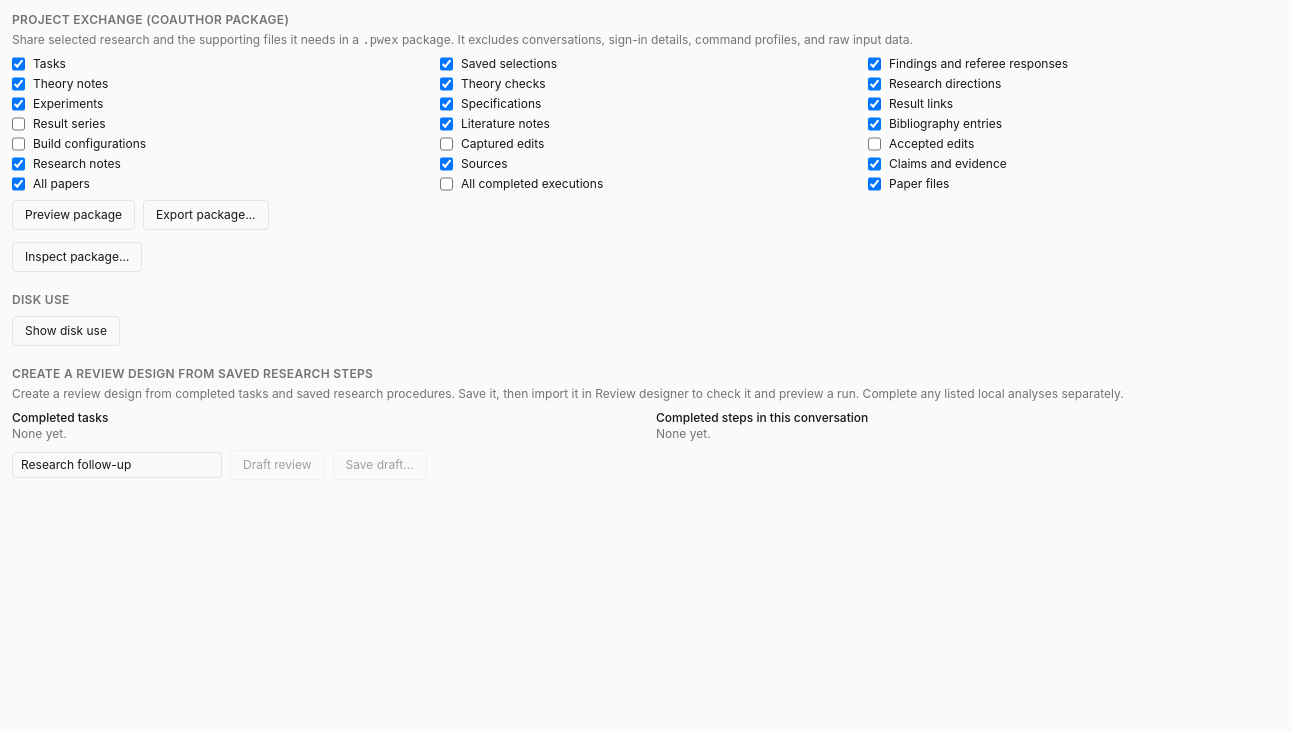
previews a prune before moving anything and only offers disposable categories
Click the button "Show disk use" at (66, 331), box [12, 316, 120, 346]
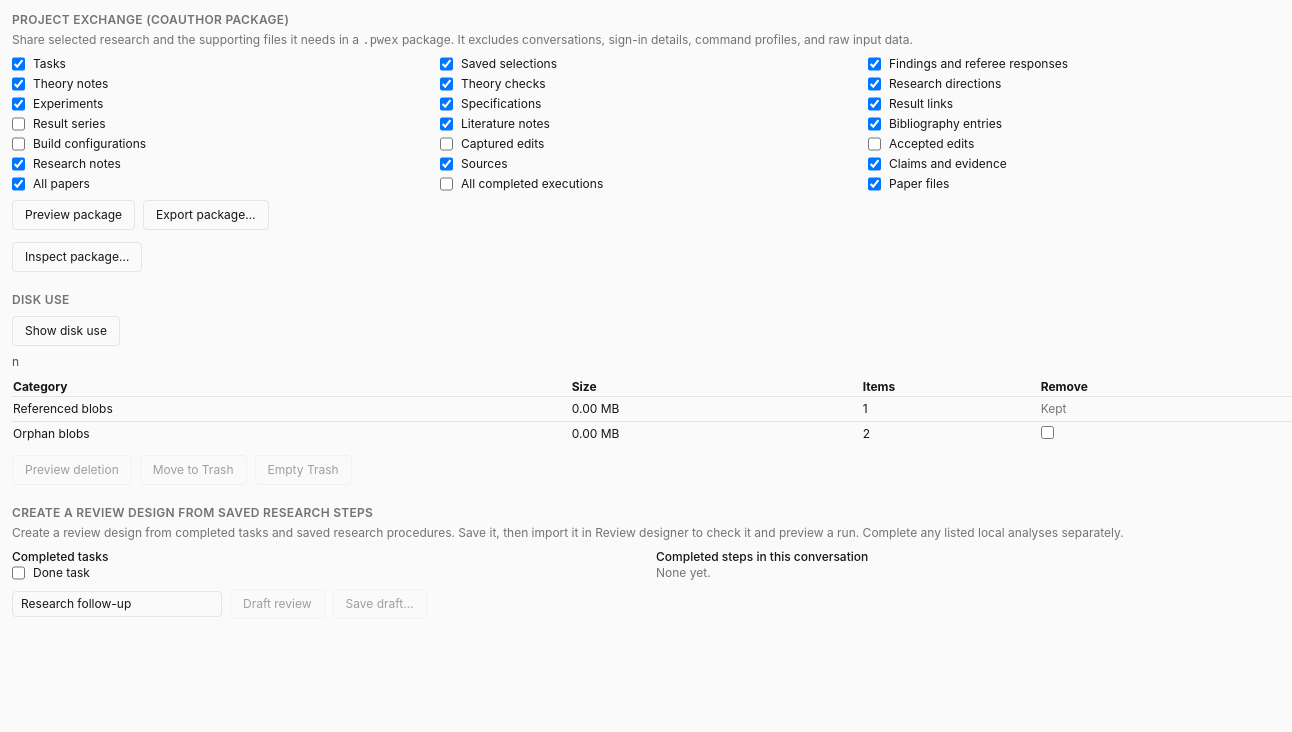
Result: the text "Orphan blobs" is shown at [12, 422, 571, 447]
Result: the button "Move to Trash" is disabled at [140, 455, 246, 485]
Click the checkbox named "Remove Orphan blobs" at (1047, 432), box [1041, 426, 1054, 439]
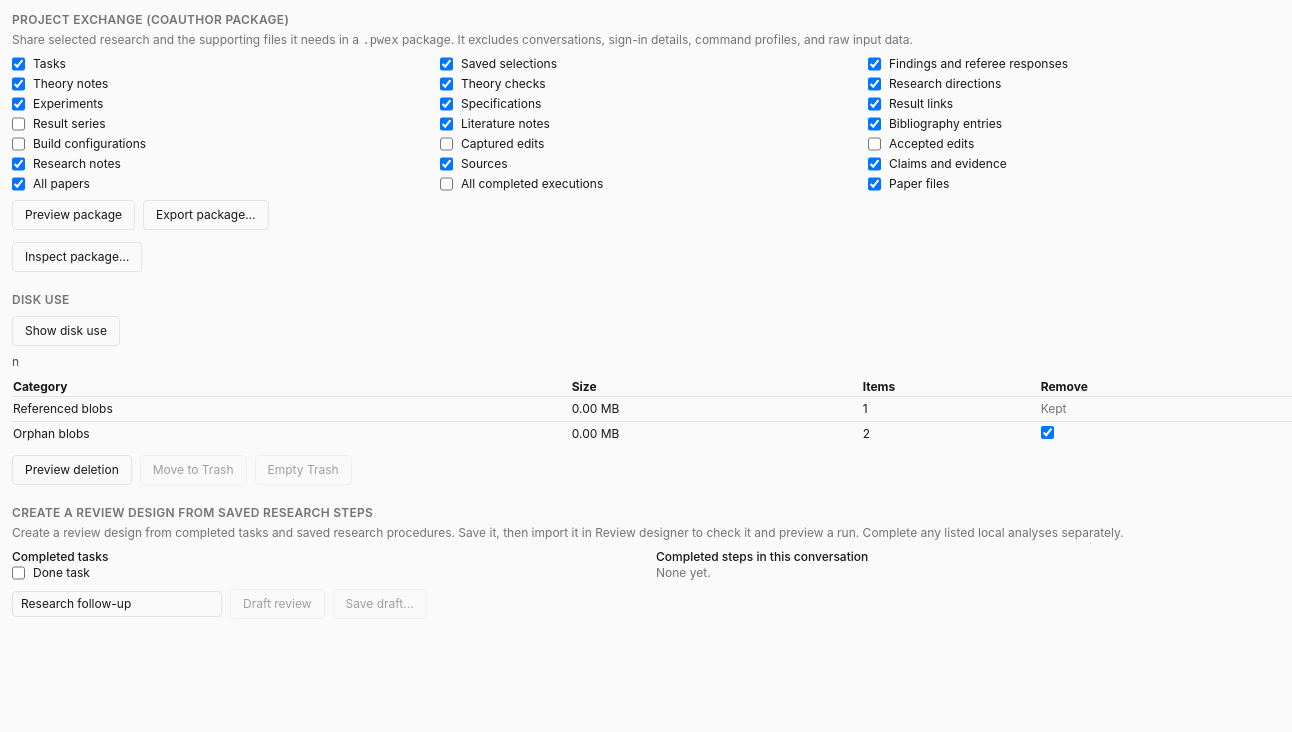
Click the button "Preview deletion" at (72, 470), box [12, 455, 132, 485]
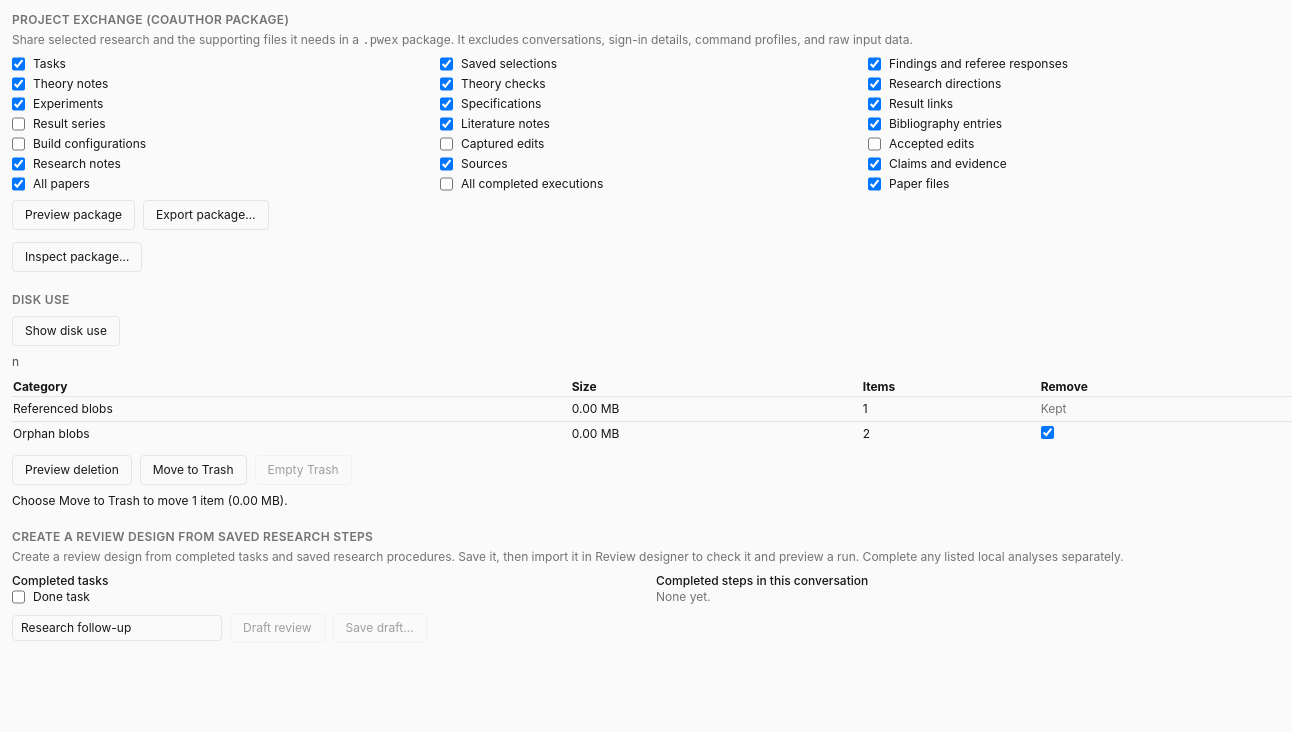
Result: the text "Choose Move to Trash to move 1 item (0.00 MB)." is shown at [12, 493, 288, 508]
